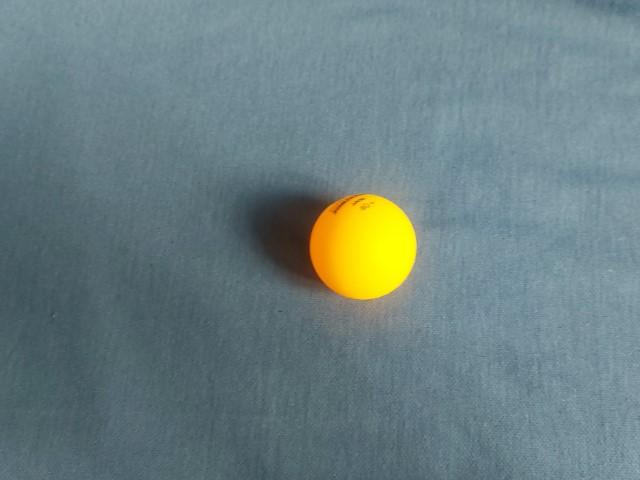oball: (217, 175, 337, 294)
